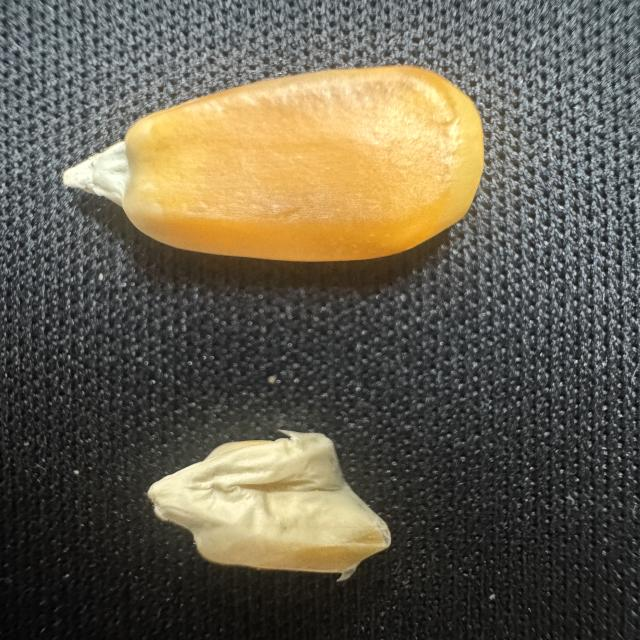Bad-Seed: (136, 416, 399, 581)
Good-Seed: (47, 59, 497, 268)
